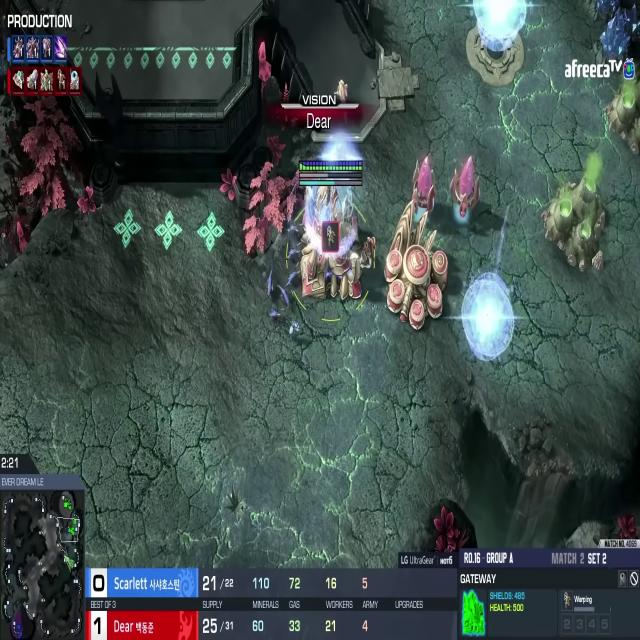zealot: (357, 231, 383, 272)
zergling: (284, 236, 306, 267), (282, 258, 301, 291), (276, 275, 292, 309), (283, 214, 303, 241), (262, 266, 276, 300), (268, 302, 284, 328)
